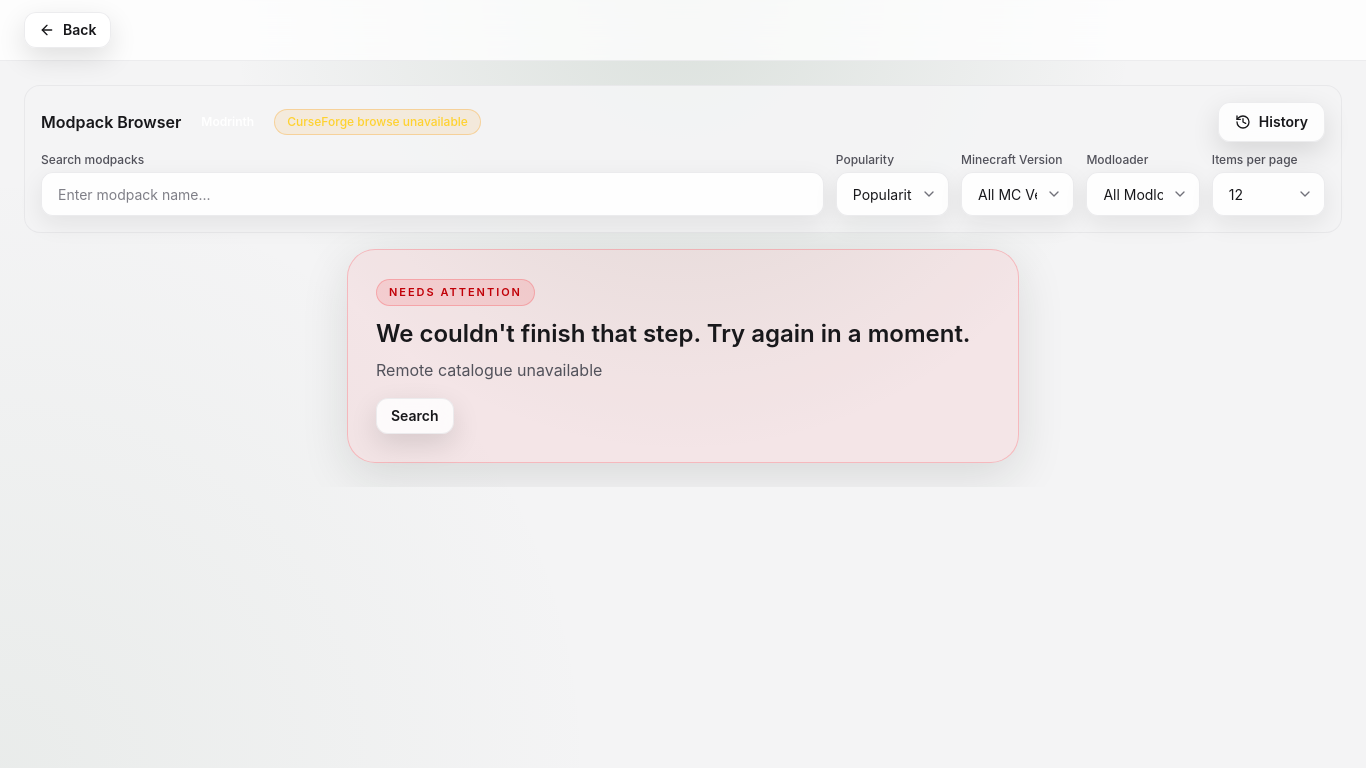
it: ModpackBrowser degraded states › shows an explicit error state for failed remote search and retries into normal results
Expected: the heading "We couldn't finish that step. Try again in a moment." is shown, x1=376 y1=318 x2=990 y2=350
Expected: the message shows "Needs attention", x1=389 y1=285 x2=522 y2=299
Click the button "Search": {"x": 415, "y": 416} x1=376 y1=398 x2=454 y2=434
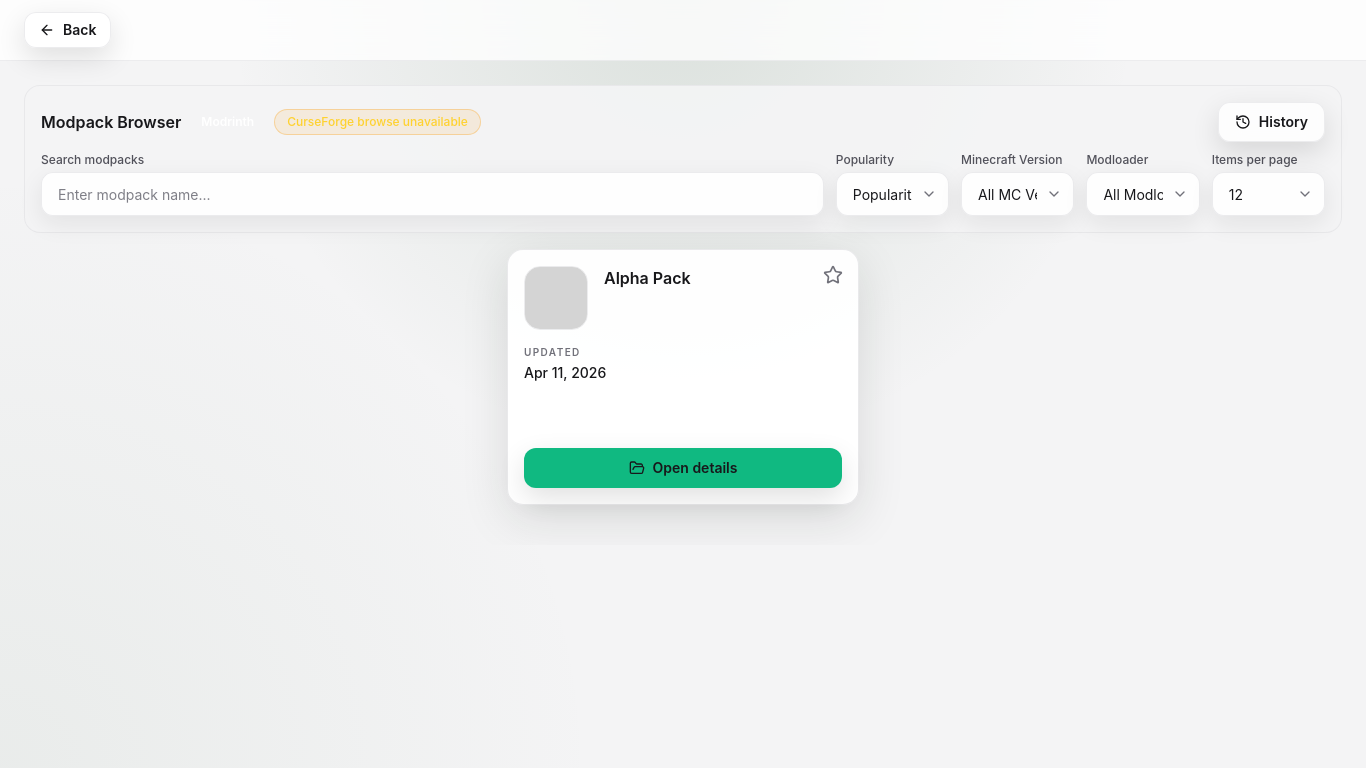
Now the heading "Alpha Pack" is shown, box x1=604 y1=268 x2=691 y2=288
Now the message is gone
